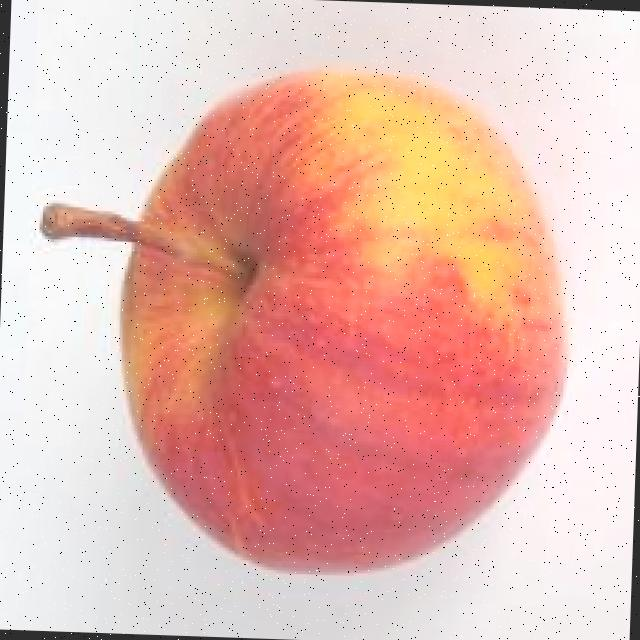apple: (12, 42, 604, 609)
